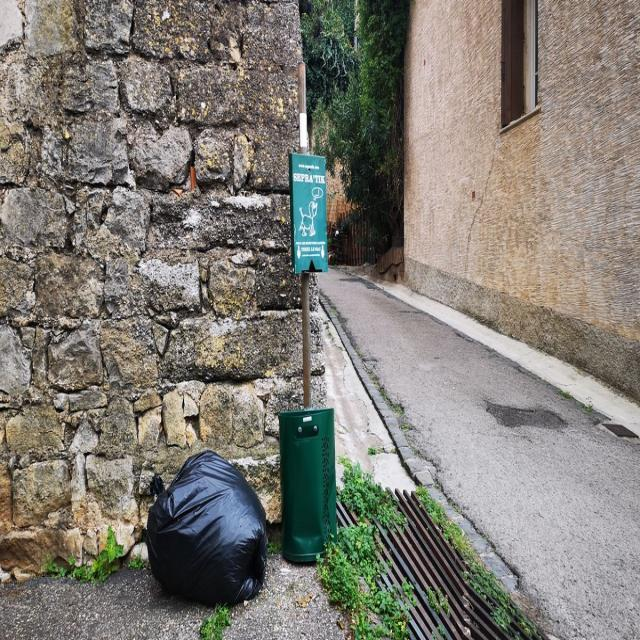garbage: (136, 442, 272, 612)
